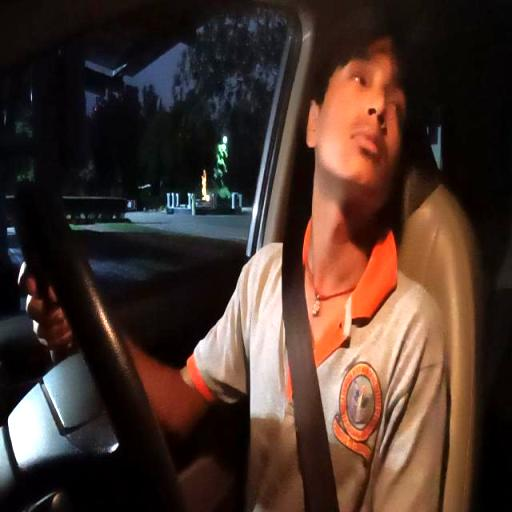Reaching_behind: (172, 27, 451, 500)
